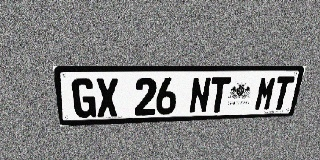2: (135, 77, 157, 116)
6: (156, 77, 178, 115)
G: (71, 78, 97, 118)
M: (253, 76, 278, 111)
N: (189, 77, 212, 113)
T: (270, 76, 295, 110), (208, 77, 231, 113)
X: (95, 78, 119, 117)
